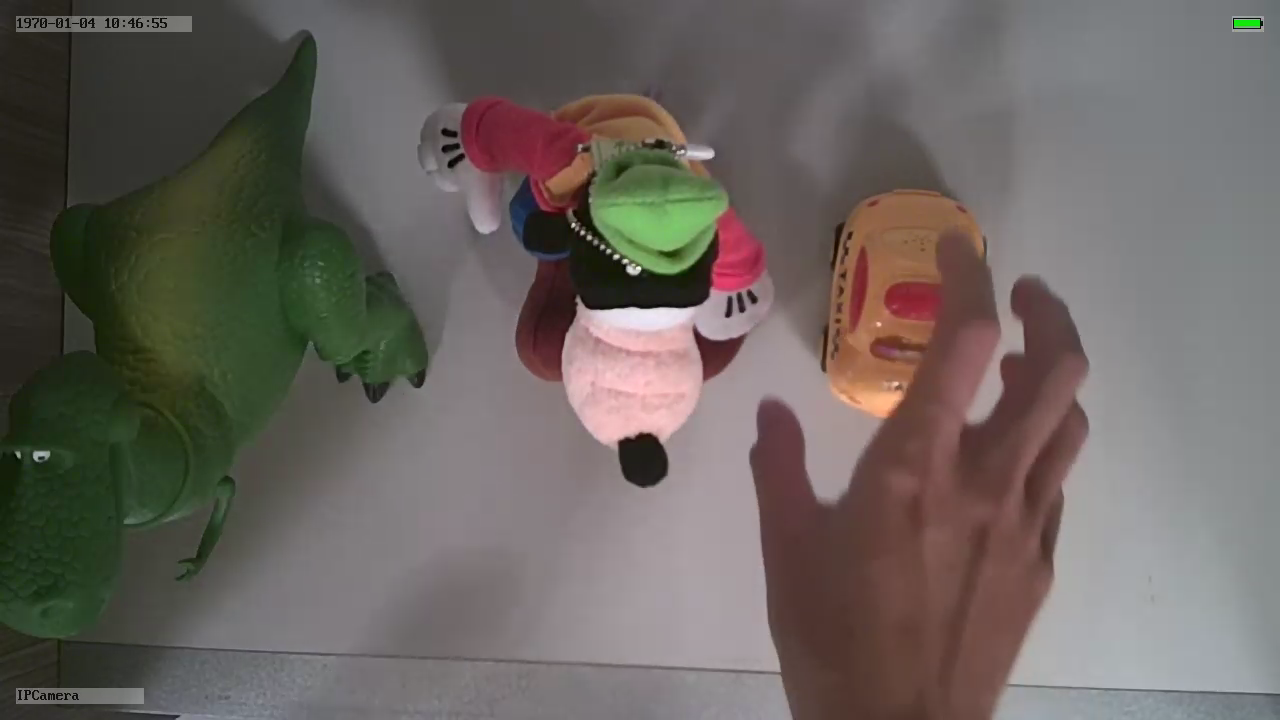goofy: (413, 89, 781, 487)
